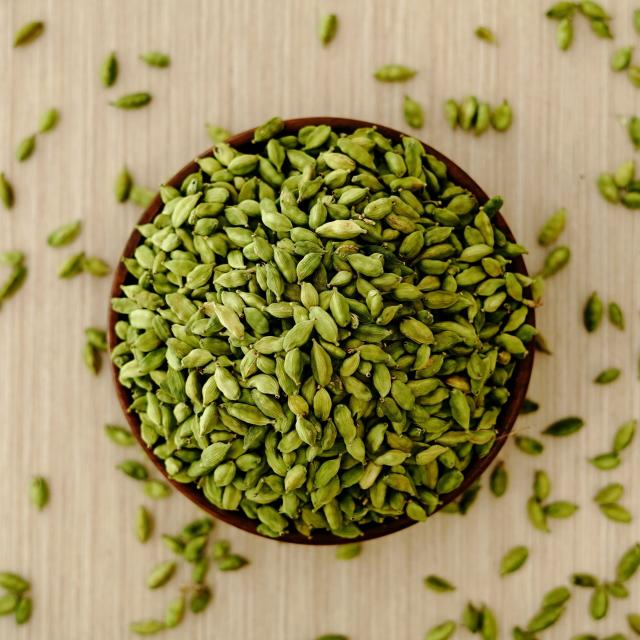Cardamom: (115, 123, 536, 532)
